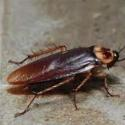cockroach: (8, 43, 120, 100)
